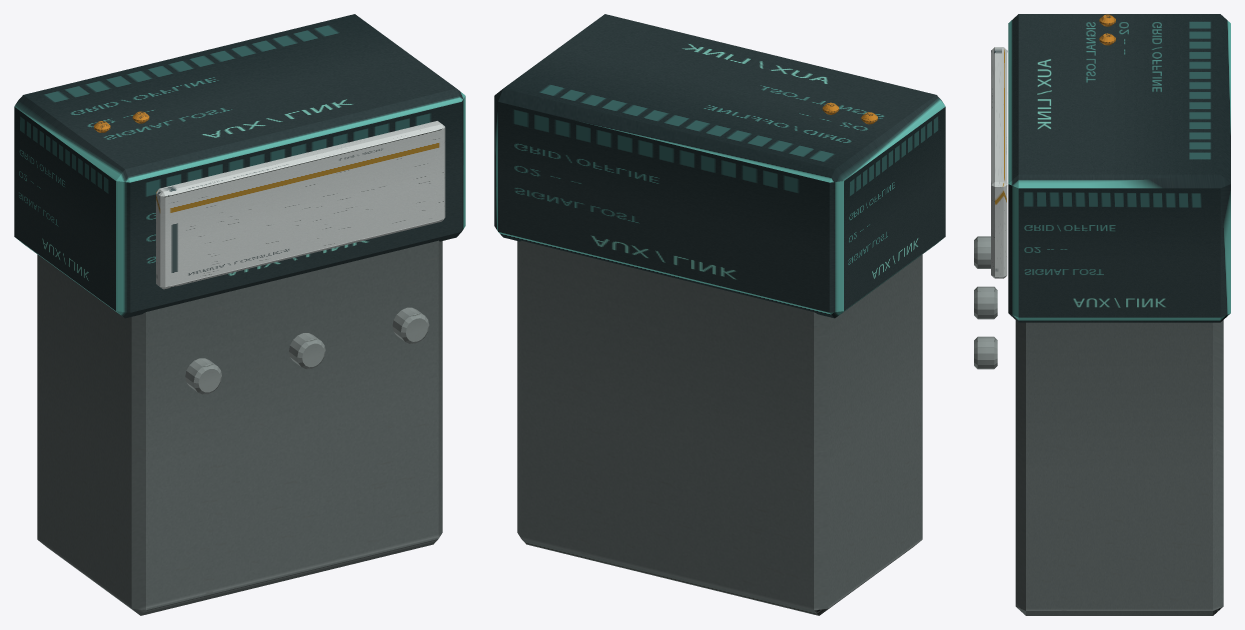
The model's file is console_LOD0.obj.
3 renders of one model, left to right at view 1: azimuth 30°, elevation 25°; view 2: azimuth 150°, elevation 25°; view 3: azimuth 270°, elevation 25°, orthographic.
Visible parts, largest first — view 1: L02_console_LOD0; view 2: L02_console_LOD0; view 3: L02_console_LOD0.
Part boxes in pixels (left/top/right/bottom): L02_console_LOD0: left=14, top=14, right=465, bottom=615; L02_console_LOD0: left=494, top=14, right=945, bottom=615; L02_console_LOD0: left=974, top=14, right=1230, bottom=615.
Bounding box in the file's own units: 1.35 × 1.71 × 0.865.
1 material, 1 textured.
